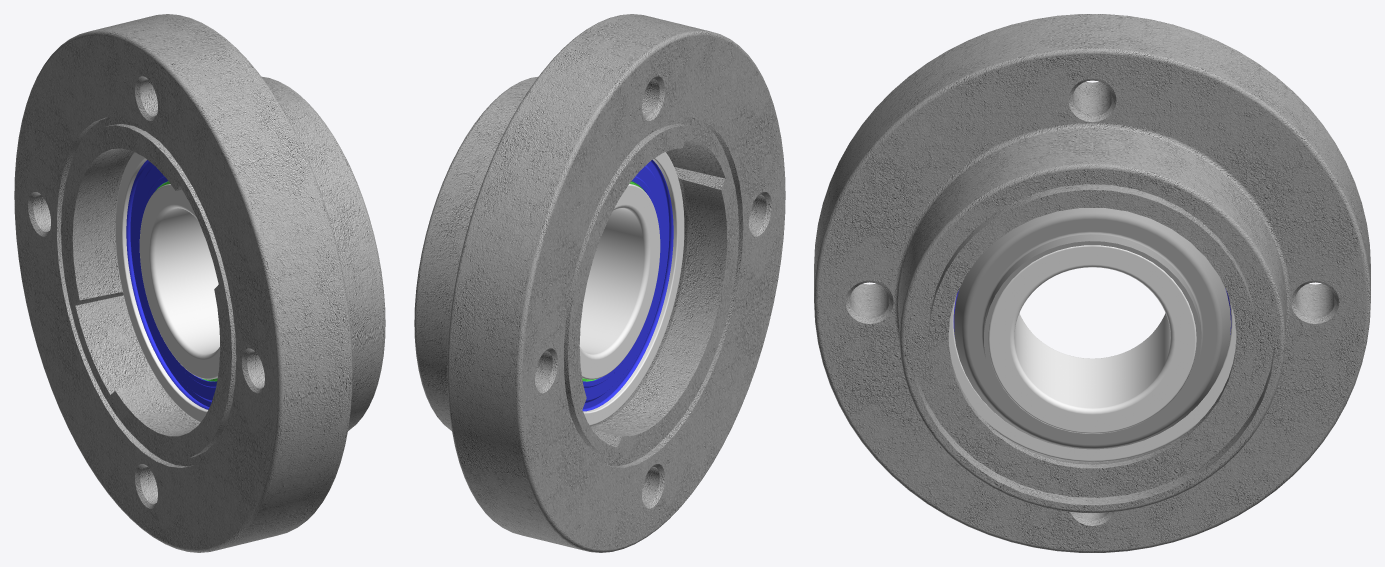
Rendered from BUP-207-X3L.glb.
3 renders of one model, left to right at view 1: azimuth 30°, elevation 25°; view 2: azimuth 150°, elevation 25°; view 3: azimuth 270°, elevation 25°, orthographic. The views are drawn at different scales.
Visible parts, largest first — view 1: texture-5, texture, color-2, texture-2; view 2: texture-5, texture, color-2, texture-2; view 3: texture-5, texture-4, texture, texture-2.
Boxes of the visible parts, <box> form: texture-5: <box>14,14,385,552</box>; texture: <box>139,184,220,379</box>; color-2: <box>126,160,216,409</box>; texture-2: <box>115,152,207,422</box>; texture-5: <box>414,14,785,552</box>; texture: <box>579,184,660,379</box>; color-2: <box>582,160,673,411</box>; texture-2: <box>583,152,684,425</box>; texture-5: <box>814,14,1370,552</box>; texture-4: <box>954,208,1230,449</box>; texture: <box>988,245,1196,433</box>; texture-2: <box>948,295,1236,461</box>.
Size of the model in its own units: 0.04 by 0.1249 by 0.125.
Materials: 11 (5 with a texture image).
